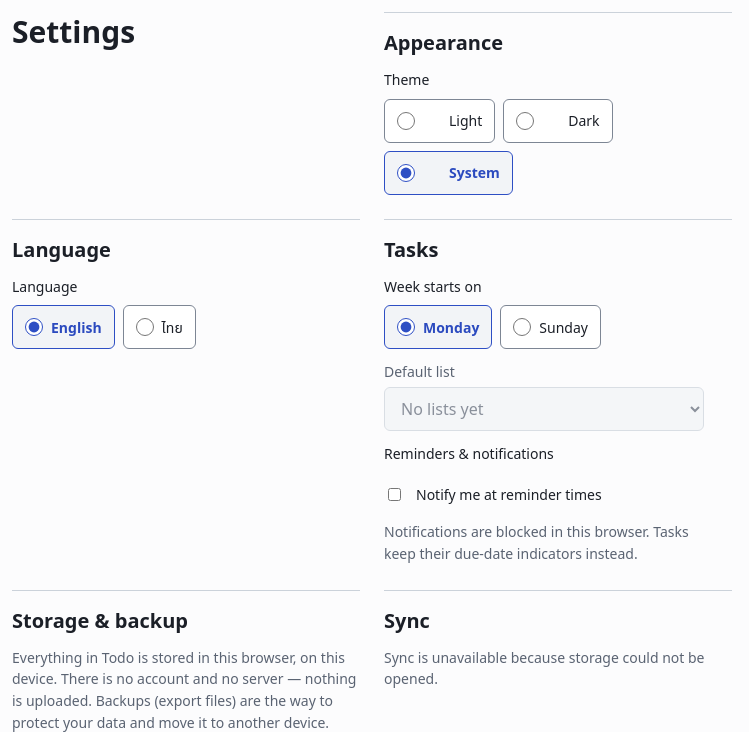
Test: language switcher (settings, design §4.9 item 2) › switches back to English
What coordinates should you click on to do the following:
click the radio button labelled "ไทย"
I would click on:
 (145, 327)
Its box is [136,318,154,336].
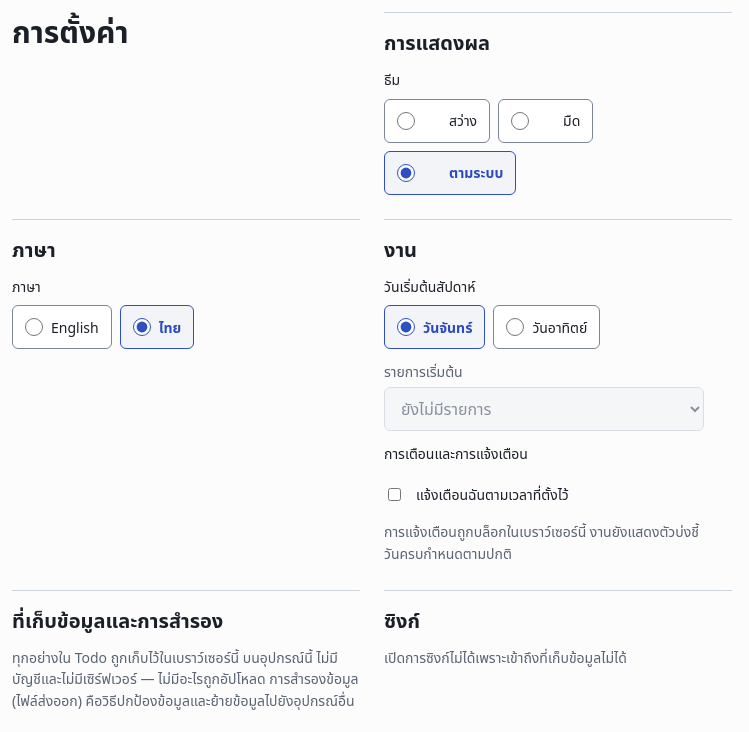
What coordinates should you click on to do the following:
click the radio button labelled "English"
I would click on:
 (34, 327)
Its box is [25,318,43,336].
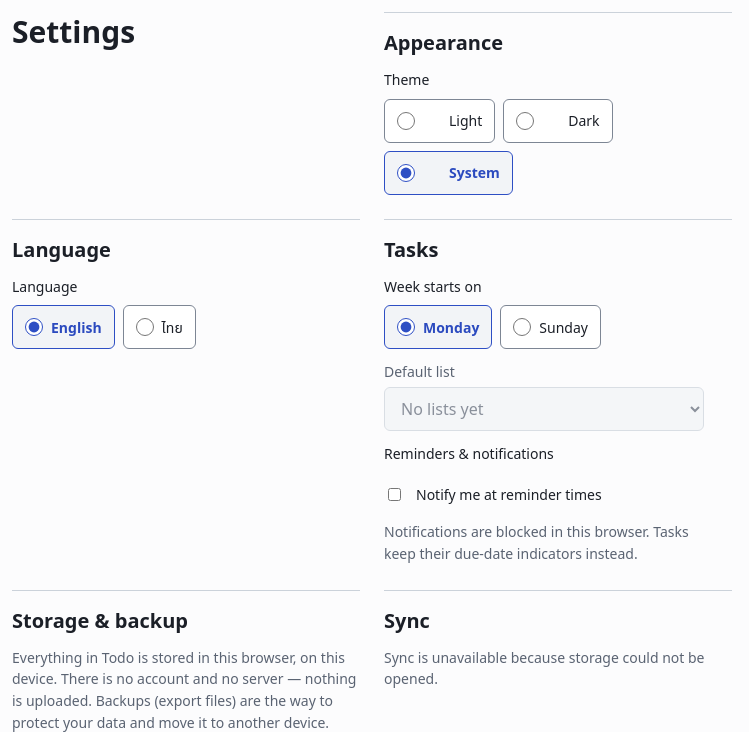
Expected: the heading "Language" is shown, [12,236,111,263]
Now the heading "Settings" is shown, box [12,11,135,52]
